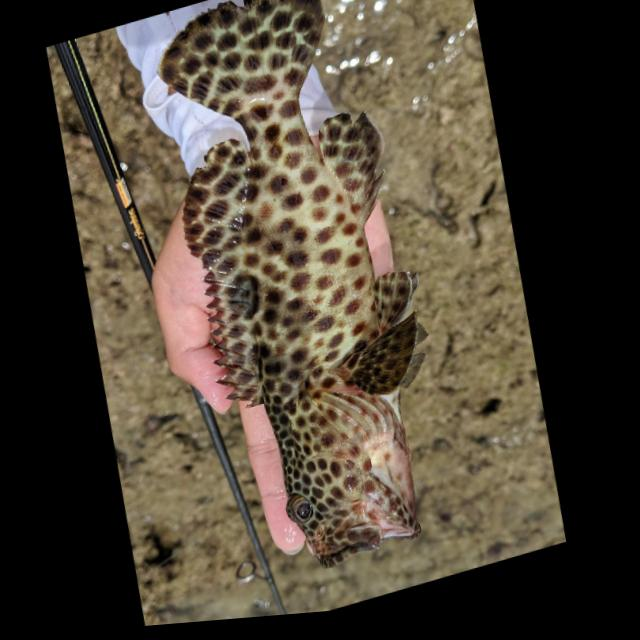Groupers: (121, 0, 487, 602)
